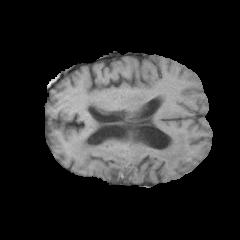glioma: (69, 118, 187, 179)
